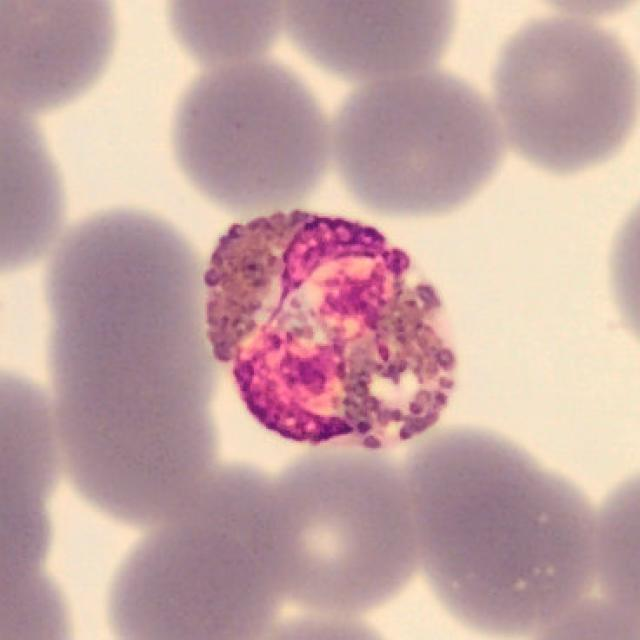Eosinofilo: (202, 211, 457, 451)
